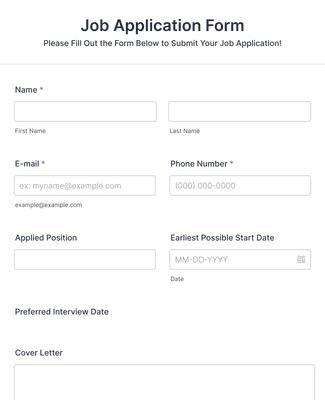input: (15, 103, 158, 123), (15, 177, 157, 197), (170, 251, 312, 271), (172, 177, 312, 197), (16, 251, 156, 271), (170, 103, 311, 122)
label: (14, 307, 112, 320), (171, 232, 274, 244), (170, 157, 234, 169), (15, 235, 83, 244), (15, 349, 69, 359), (13, 203, 85, 210), (12, 86, 46, 96), (14, 159, 47, 169), (169, 127, 202, 135), (14, 127, 47, 135), (171, 275, 190, 284)
